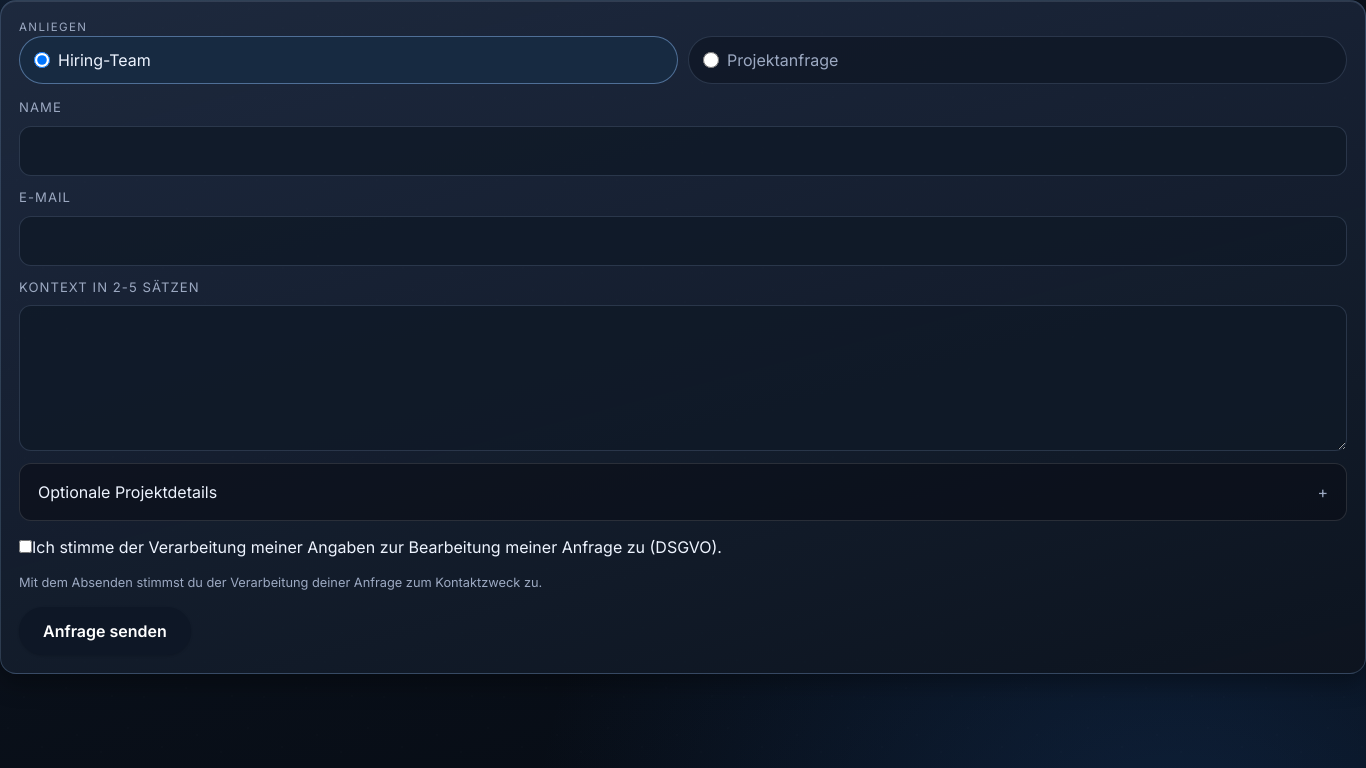
Test case: ContactForm accessibility › keeps advanced fields collapsed until opened
This screenshot has width=1366, height=768.
Click the button "Optionale Projektdetails +".
click(128, 492)  # box [20, 464, 1346, 520]
(page scrolled)
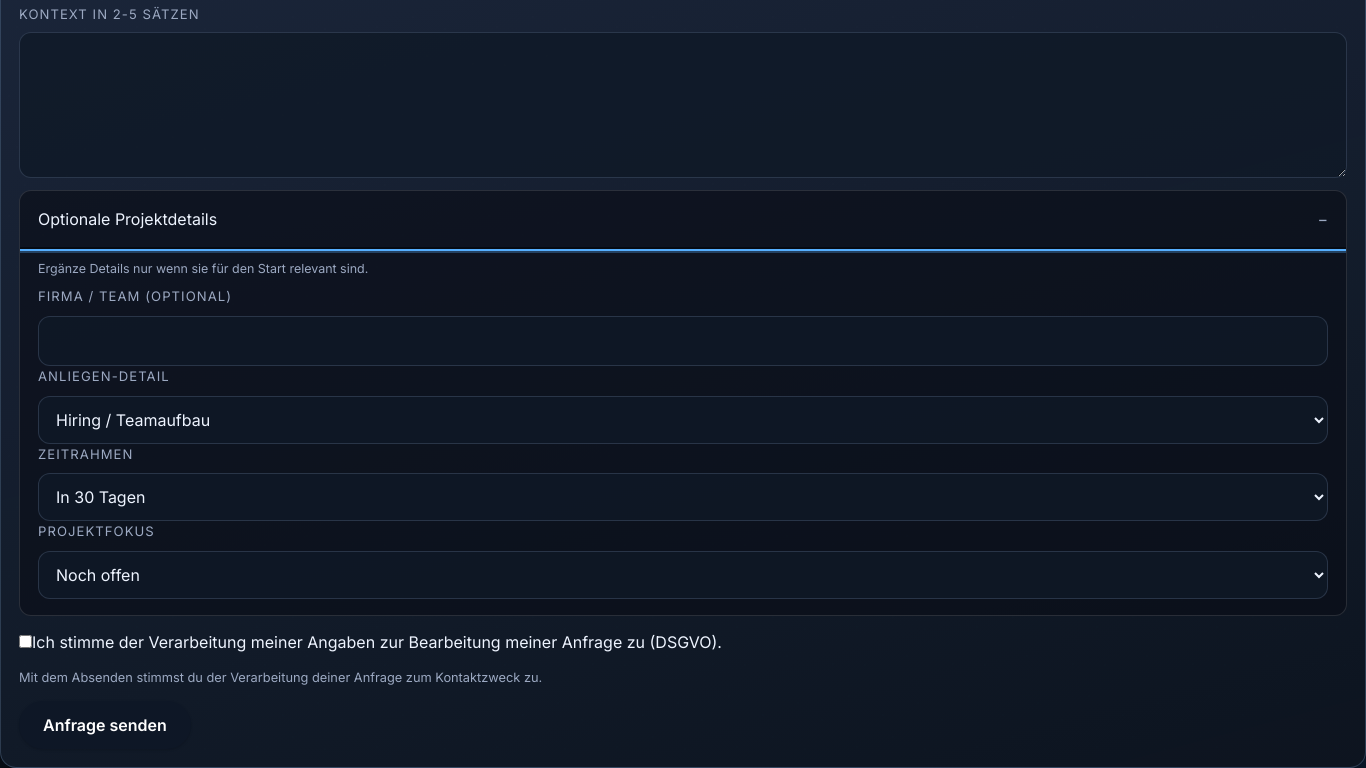
Now the button "Optionale Projektdetails −" is expanded, box [20, 191, 1346, 247]
Now the dropdown labelled "Projektfokus" is shown, box [38, 551, 1328, 599]
Now the dropdown labelled "Zeitrahmen" is shown, box [38, 473, 1328, 521]
